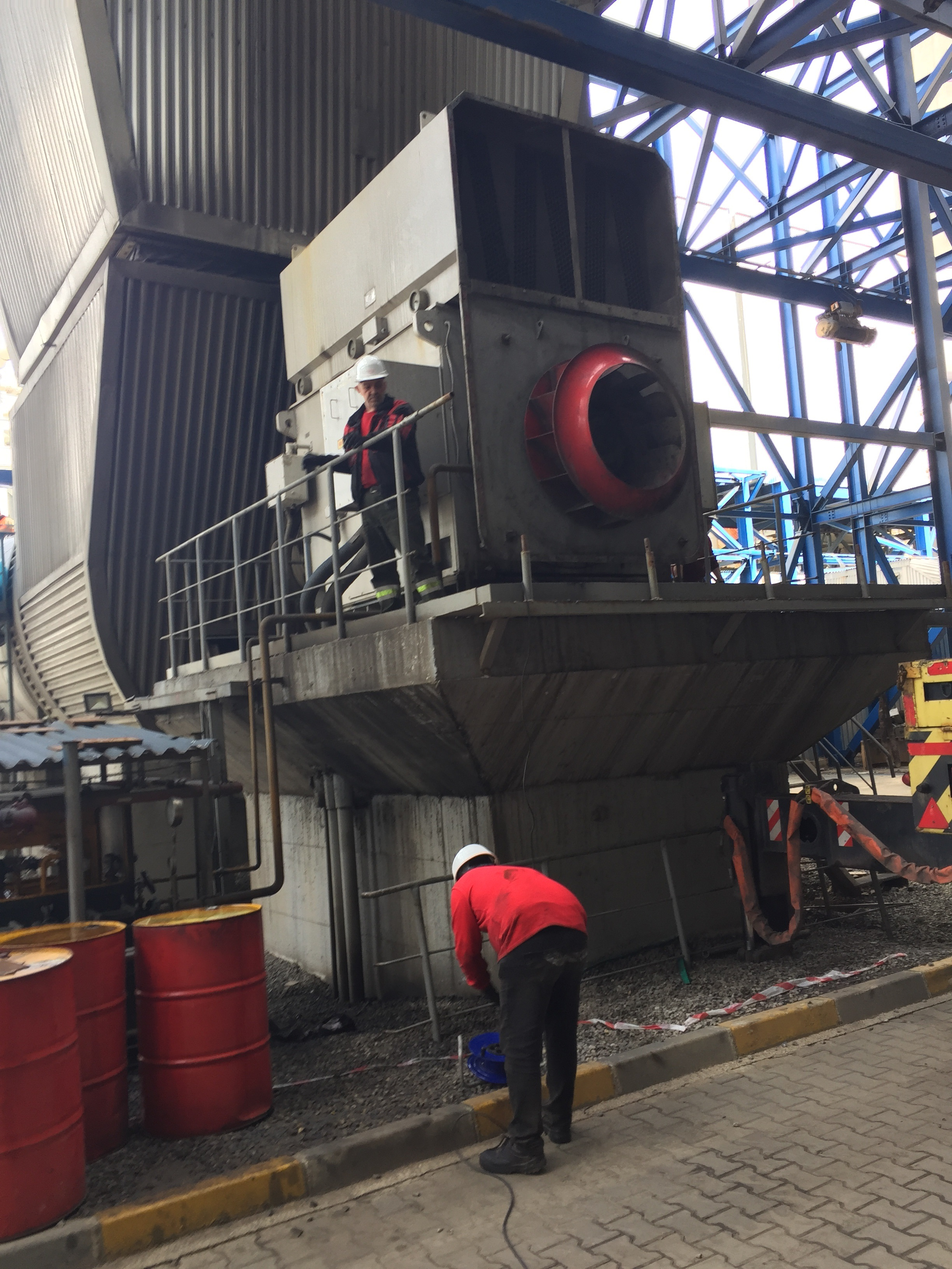safety_helmet: (448, 841, 498, 882)
